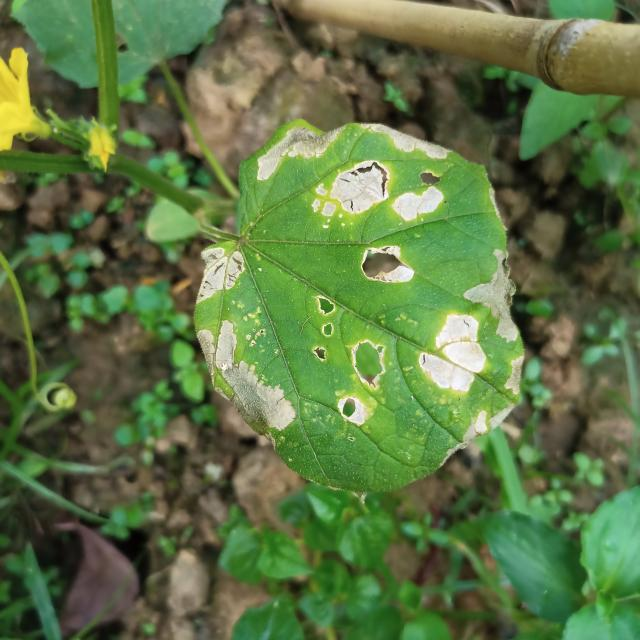disease_cucumber: (338, 241, 530, 447), (251, 120, 447, 286), (193, 241, 336, 444)
